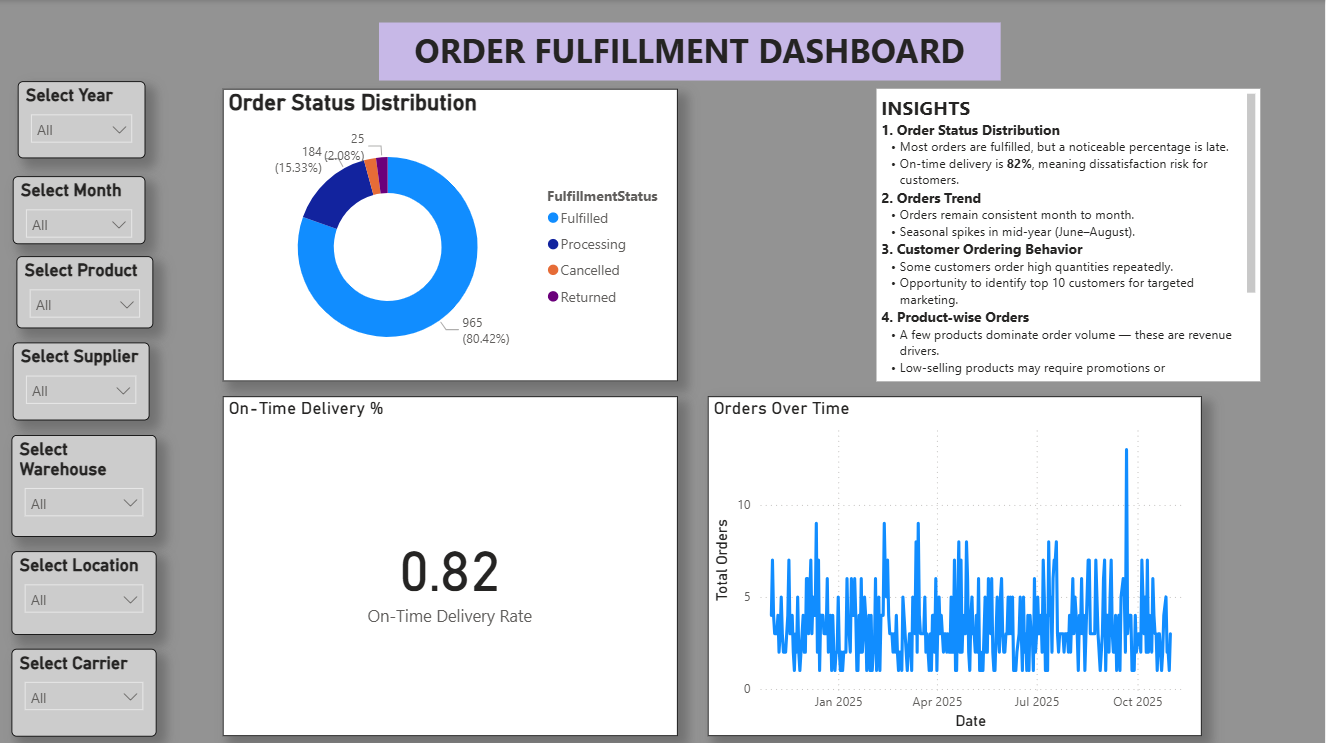

The dashboard page shown, as its layout file describes it:
{"tool":"powerbi","page":{"name":"Page 3","canvas":[1280,720],"ordinal":2},"visuals":[{"type":"donutChart","title":"Order Status Distribution","fields":{"Y":["CountNonNull(orders_table.OrderID)"],"Category":["orders_table.FulfillmentStatus"]},"box":[216,85.7,439.1,282.3],"z":0},{"type":"card","title":"On-Time Delivery %","fields":{"Values":["DateTable.On-Time Delivery Rate"]},"box":[216.4,382.7,439,327.7],"z":1},{"type":"lineChart","title":"Orders Over Time","fields":{"Category":["DateTable.Date"],"Y":["DateTable.Total Orders"]},"box":[683.6,382.7,476.9,327.7],"z":2},{"type":"textbox","box":[366.4,22,599.7,56.3],"z":4},{"type":"slicer","title":"Select Year","fields":{"Values":["DateTable.Year"]},"box":[17.8,78.2,123.5,74.1],"z":5},{"type":"slicer","title":"Select Month","fields":{"Values":["DateTable.Month"]},"box":[13.7,170.2,127.6,65.9],"z":6},{"type":"slicer","title":"Select Product","fields":{"Values":["products_table.ProductID"]},"box":[16.5,247,131.7,70],"z":7},{"type":"slicer","title":"Select Supplier","fields":{"Values":["suppliers_table.Suppliers name "]},"box":[13.7,330.7,131.7,75.5],"z":8},{"type":"slicer","title":"Select Warehouse","fields":{"Values":["inventory_table.WarehouseID"]},"box":[12.3,419.9,140,98.8],"z":9},{"type":"slicer","title":"Select Location","fields":{"Values":["products_table.Location"]},"box":[12.3,532.4,140,81],"z":10},{"type":"slicer","title":"Select Carrier","fields":{"Values":["shipping_table.Carrier"]},"box":[12.3,625.7,140,85.1],"z":11},{"type":"textbox","box":[846.9,85.7,370.4,282.3],"z":12}]}

Visuals, with their boxes in screenshot pixels (x1, y1, x2, y2), scaled from the page's 1280x720 canvas onto the 1326x743 screenshot:
"Order Status Distribution" donutChart: [224, 88, 679, 380]
"On-Time Delivery %" card: [224, 395, 679, 733]
"Orders Over Time" lineChart: [708, 395, 1202, 733]
textbox: [380, 23, 1001, 81]
"Select Year" slicer: [18, 81, 146, 157]
"Select Month" slicer: [14, 176, 146, 244]
"Select Product" slicer: [17, 255, 154, 327]
"Select Supplier" slicer: [14, 341, 151, 419]
"Select Warehouse" slicer: [13, 433, 158, 535]
"Select Location" slicer: [13, 549, 158, 633]
"Select Carrier" slicer: [13, 646, 158, 734]
textbox: [877, 88, 1261, 380]
